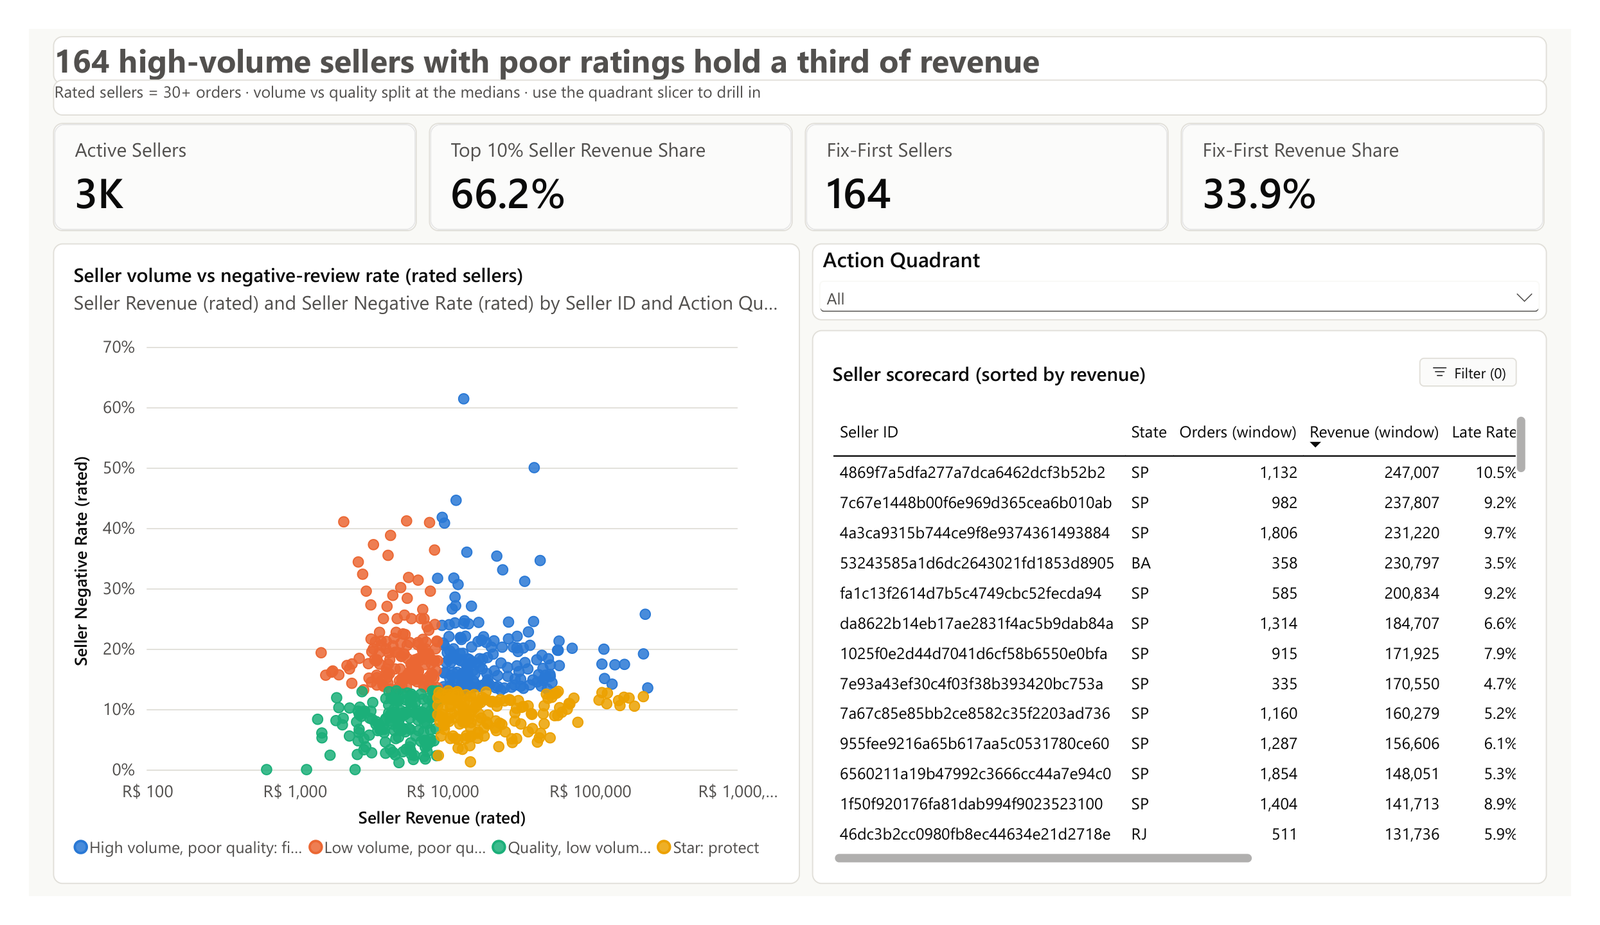

What the dashboard file says about the page in this screenshot:
{"tool":"powerbi","page":{"name":"Seller Performance","canvas":[1280,720],"ordinal":3},"visuals":[{"type":"textbox","box":[20,6,1240,40],"z":0},{"type":"textbox","box":[20,42,1240,30],"z":1},{"type":"cardVisual","fields":{"Data":["Orders.Active Sellers"]},"box":[20,78,302,90],"z":2},{"type":"cardVisual","fields":{"Data":["Orders.Top 10% Seller Revenue Share"]},"box":[332,78,302,90],"z":3},{"type":"cardVisual","fields":{"Data":["Orders.Fix-First Sellers"]},"box":[644,78,302,90],"z":4},{"type":"cardVisual","fields":{"Data":["Orders.Fix-First Revenue Share"]},"box":[956,78,302,90],"z":5},{"type":"scatterChart","title":"Seller volume vs negative-review rate (rated sellers)","fields":{"Category":["Sellers.Seller ID"],"Series":["Sellers.Action Quadrant"],"X":["Orders.Seller Revenue (rated)"],"Y":["Orders.Seller Negative Rate (rated)"]},"box":[20,178,620,532],"z":6},{"type":"slicer","fields":{"Values":["Sellers.Action Quadrant"]},"box":[650,178,610,64],"z":7},{"type":"tableEx","title":"Seller scorecard (sorted by revenue)","fields":{"Values":["Sellers.Seller ID","Sellers.State","Sellers.Orders (window)","Sellers.Revenue (window)","Sellers.Late Rate","Sellers.Negative Review Rate","Sellers.Action Quadrant"]},"box":[650,250,610,460],"z":8}]}

Visuals, with their boxes in screenshot pixels (x1, y1, x2, y2), scaled from the page's 1280x720 canvas onto the 1600x925 screenshot:
textbox: {"left": 25, "top": 8, "right": 1575, "bottom": 59}
textbox: {"left": 25, "top": 54, "right": 1575, "bottom": 92}
cardVisual - Orders.Active Sellers: {"left": 25, "top": 100, "right": 402, "bottom": 216}
cardVisual - Orders.Top 10% Seller Revenue Share: {"left": 415, "top": 100, "right": 792, "bottom": 216}
cardVisual - Orders.Fix-First Sellers: {"left": 805, "top": 100, "right": 1182, "bottom": 216}
cardVisual - Orders.Fix-First Revenue Share: {"left": 1195, "top": 100, "right": 1572, "bottom": 216}
"Seller volume vs negative-review rate (rated sellers)" scatterChart: {"left": 25, "top": 229, "right": 800, "bottom": 912}
slicer - Sellers.Action Quadrant: {"left": 812, "top": 229, "right": 1575, "bottom": 311}
"Seller scorecard (sorted by revenue)" tableEx: {"left": 812, "top": 321, "right": 1575, "bottom": 912}
